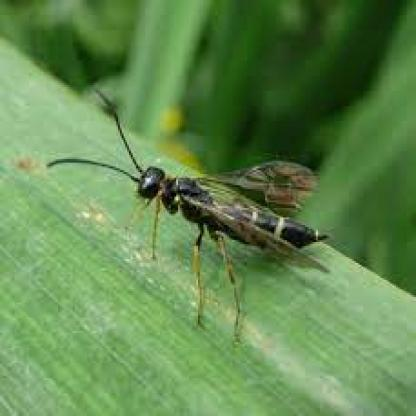sawfly: (54, 82, 335, 357)
